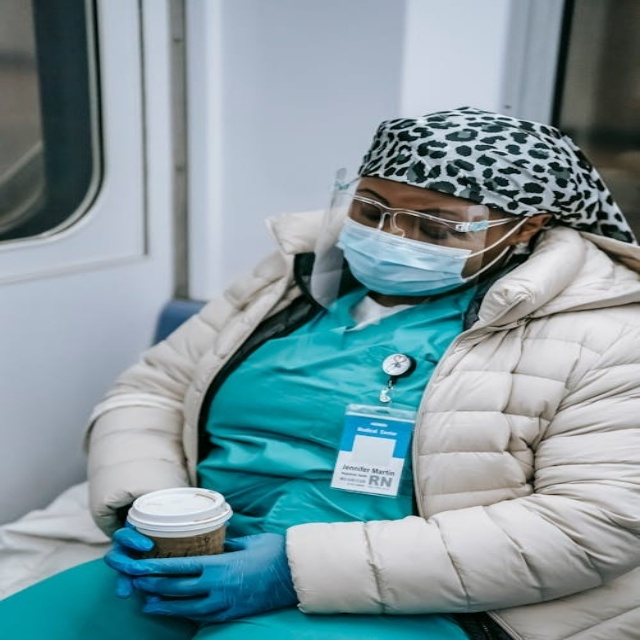Gafas: (347, 193, 526, 240)
Guantes: (108, 526, 299, 624)
Mascara: (336, 206, 502, 296)
